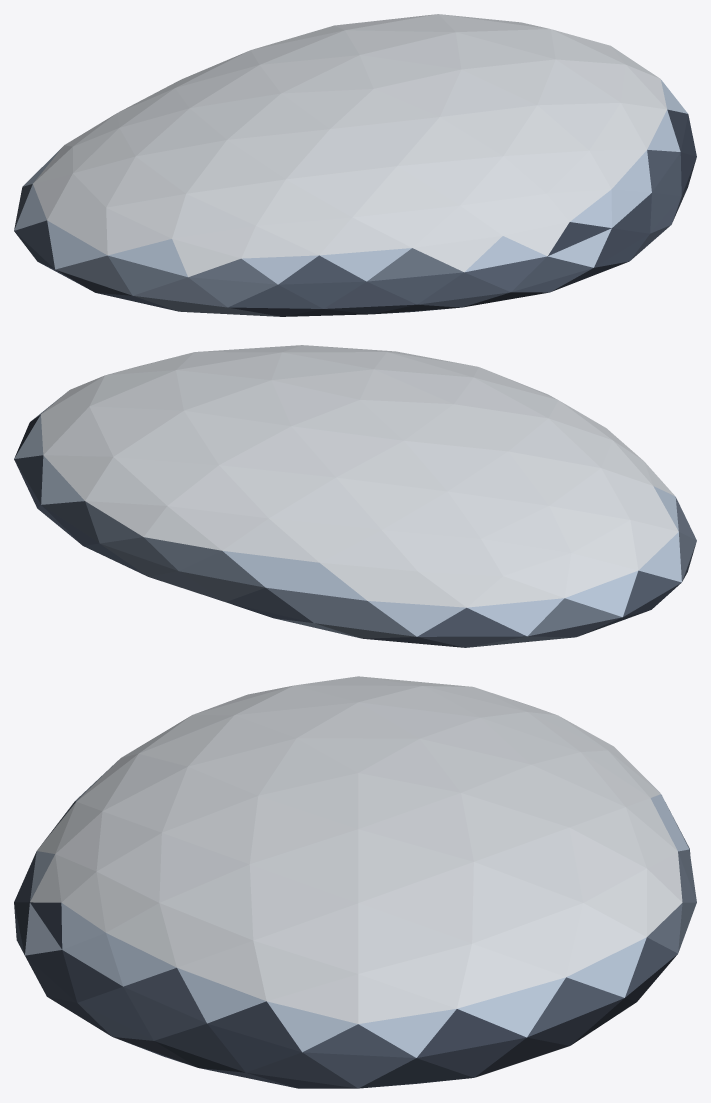
The model's file is Rock_Flat.glb.
The picture shows the model from 3 angles, top to bottom: view 1: azimuth 30°, elevation 25°; view 2: azimuth 150°, elevation 25°; view 3: azimuth 270°, elevation 25°; orthographic projection. The views are drawn at different scales.
Parts seen in each view (by area): view 1: Rock_Flat; view 2: Rock_Flat; view 3: Rock_Flat.
Boxes of the visible parts, x1,y1,x2,y2 form: Rock_Flat: [14, 14, 696, 316]; Rock_Flat: [14, 345, 696, 647]; Rock_Flat: [14, 676, 696, 1088].
Bounding box in the file's own units: 7.13 × 1.51 × 5.4.
